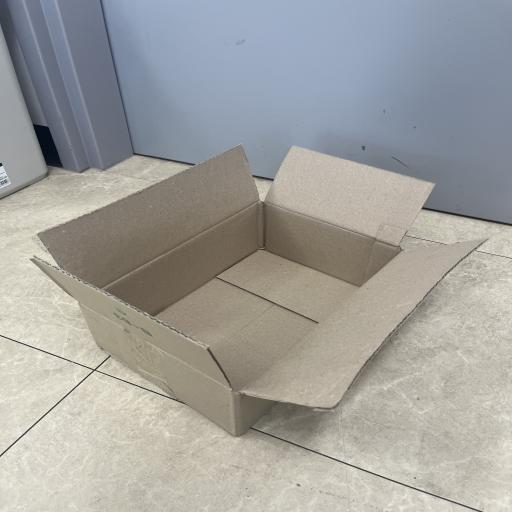box: (30, 144, 490, 437)
opened: (31, 144, 490, 412)
